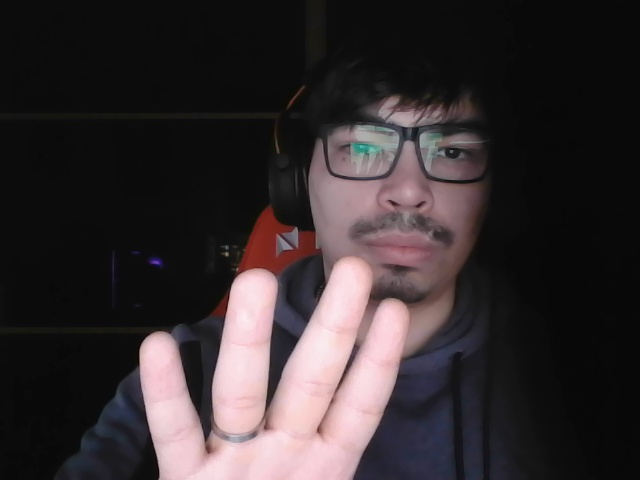four: (118, 246, 440, 480)
